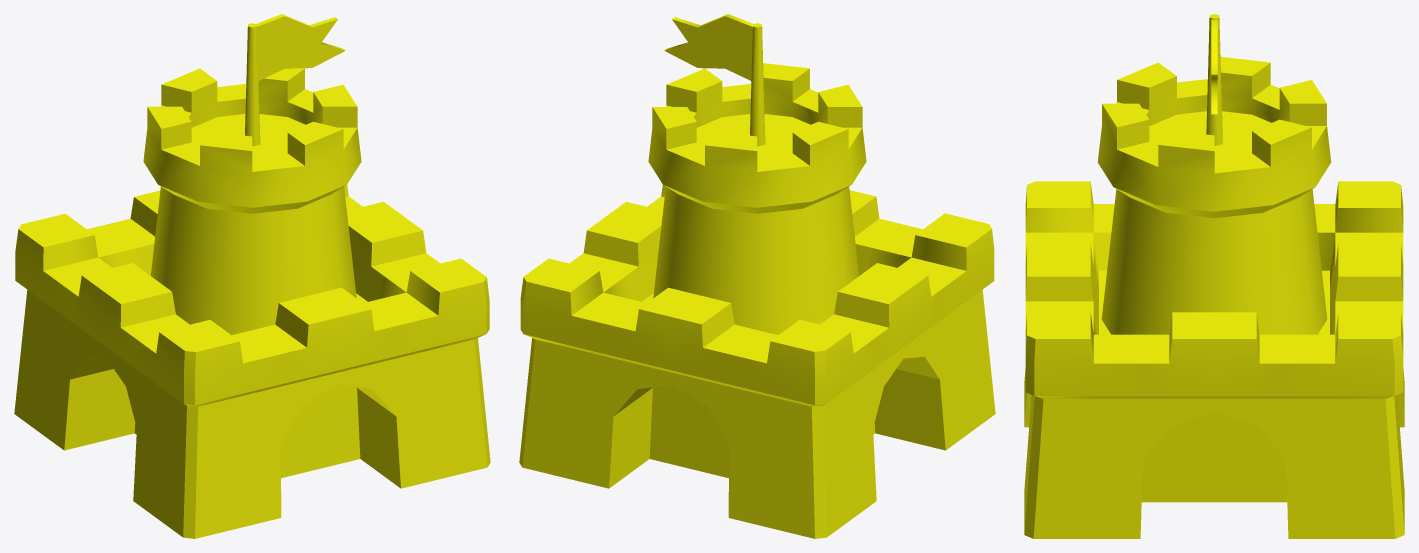
File: castle.glb
3 renders of one model, left to right at view 1: azimuth 30°, elevation 25°; view 2: azimuth 150°, elevation 25°; view 3: azimuth 270°, elevation 25°, orthographic. The views are drawn at different scales.
Visible parts, largest first — view 1: castle; view 2: castle; view 3: castle.
Part boxes in pixels (<box>): castle: <box>14,14,490,538</box>; castle: <box>519,14,995,538</box>; castle: <box>1024,14,1404,538</box>.
Bounding box in the file's own units: 1.76 × 2.27 × 1.76.
1 material, 1 textured.
